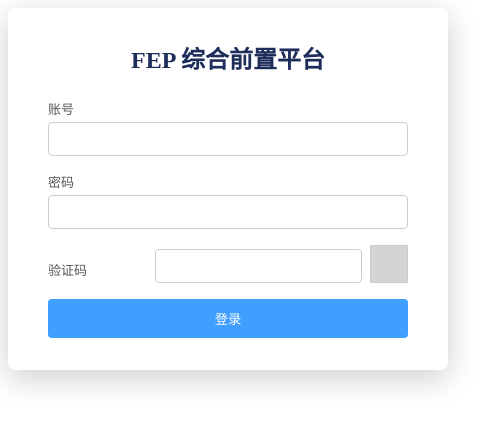
Test: LoginPage validation › rejects captcha not exactly 4 chars
Type "alicex" into the field named "account" at (228, 139), box [48,122,408,156]
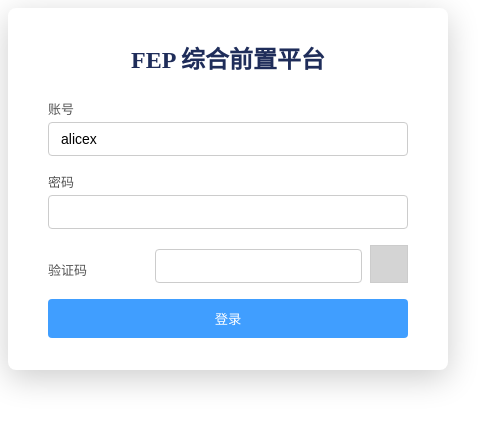
Type "Abc12345" into the password field named "password" at (228, 212), box [48,195,408,229]
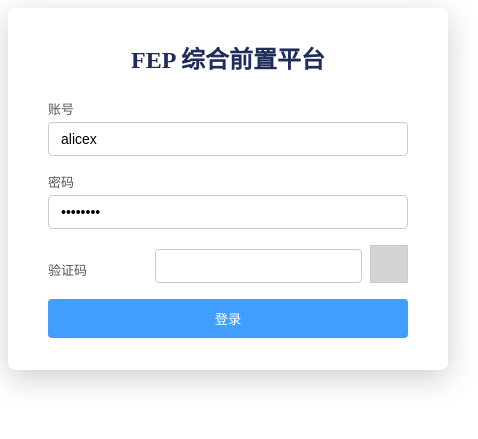
Type "12" into the field named "captchaCode" at (258, 266), box [155,249,362,283]
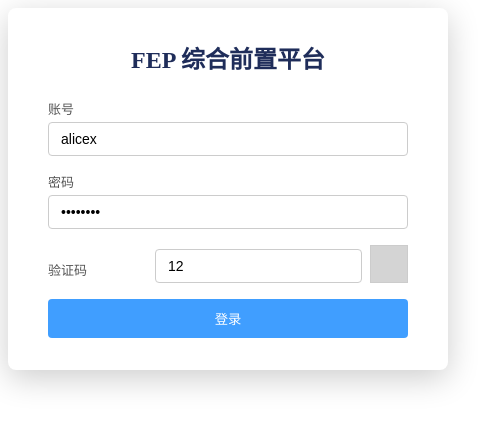
Submit the form, box [48,99,408,338]
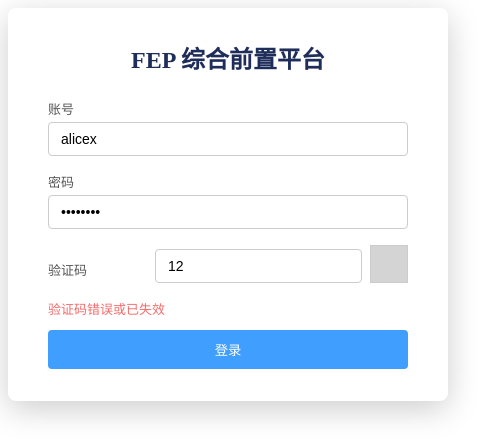
Now the text "验证码错误或已失效" is shown, box [48,302,165,317]
